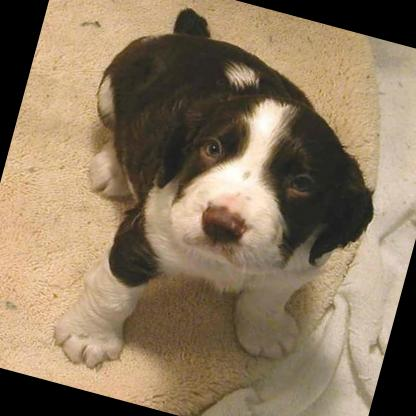English_springer: (21, 0, 416, 416)
